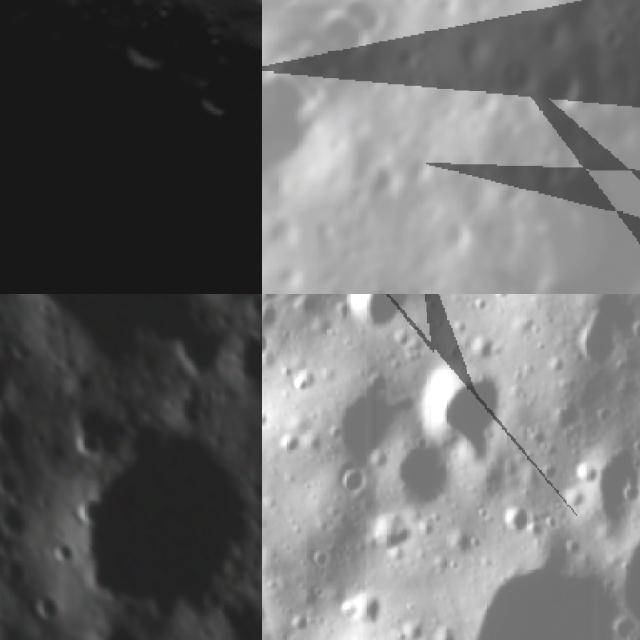crater: (22, 379, 262, 640), (400, 60, 640, 294), (0, 294, 207, 402), (262, 69, 381, 249), (401, 349, 510, 464), (510, 40, 616, 146), (306, 376, 405, 474), (557, 440, 640, 549), (369, 434, 465, 525), (201, 312, 262, 418), (565, 294, 634, 377), (116, 6, 191, 75), (426, 206, 492, 272), (186, 65, 249, 128), (0, 326, 36, 432), (587, 10, 640, 64), (0, 491, 45, 551), (338, 294, 409, 329), (64, 421, 110, 466), (496, 502, 532, 555), (344, 592, 389, 632), (31, 589, 70, 629), (45, 534, 84, 572)
